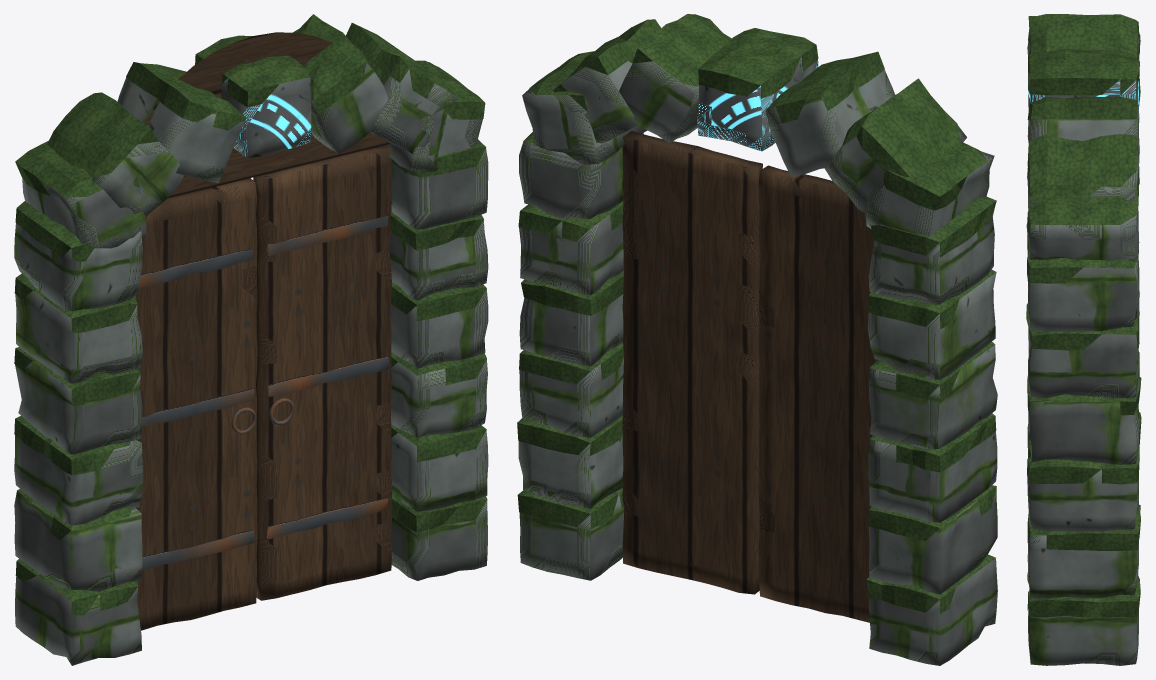
The model's file is ancient_wooden_door.glb.
The picture shows the model from 3 angles, left to right: view 1: azimuth 30°, elevation 25°; view 2: azimuth 150°, elevation 25°; view 3: azimuth 270°, elevation 25°; orthographic projection. The views are drawn at different scales.
Parts seen in each view (by area): view 1: ancient_wooden_door__wood_dark, ancient_wooden_door__stone_wall, ancient_wooden_door__moss, ancient_wooden_door__iron, ancient_wooden_door__rune_stone; view 2: ancient_wooden_door__wood_dark, ancient_wooden_door__stone_wall, ancient_wooden_door__moss, ancient_wooden_door__rune_stone; view 3: ancient_wooden_door__stone_wall, ancient_wooden_door__moss, ancient_wooden_door__rune_stone.
Part boxes in pixels (x1=…): ancient_wooden_door__wood_dark: x1=135, y1=32, x2=392, y2=630; ancient_wooden_door__stone_wall: x1=14, y1=62, x2=488, y2=665; ancient_wooden_door__moss: x1=14, y1=14, x2=487, y2=616; ancient_wooden_door__iron: x1=138, y1=216, x2=389, y2=570; ancient_wooden_door__rune_stone: x1=221, y1=77, x2=311, y2=158; ancient_wooden_door__wood_dark: x1=622, y1=131, x2=877, y2=622; ancient_wooden_door__stone_wall: x1=518, y1=61, x2=997, y2=665; ancient_wooden_door__moss: x1=517, y1=14, x2=996, y2=614; ancient_wooden_door__rune_stone: x1=697, y1=56, x2=818, y2=151; ancient_wooden_door__stone_wall: x1=1027, y1=29, x2=1139, y2=665; ancient_wooden_door__moss: x1=1026, y1=14, x2=1141, y2=617; ancient_wooden_door__rune_stone: x1=1028, y1=79, x2=1139, y2=122.
Bounding box in the file's own units: 3.14 × 4.01 × 0.7801.
Materials: 5 (5 with a texture image).
